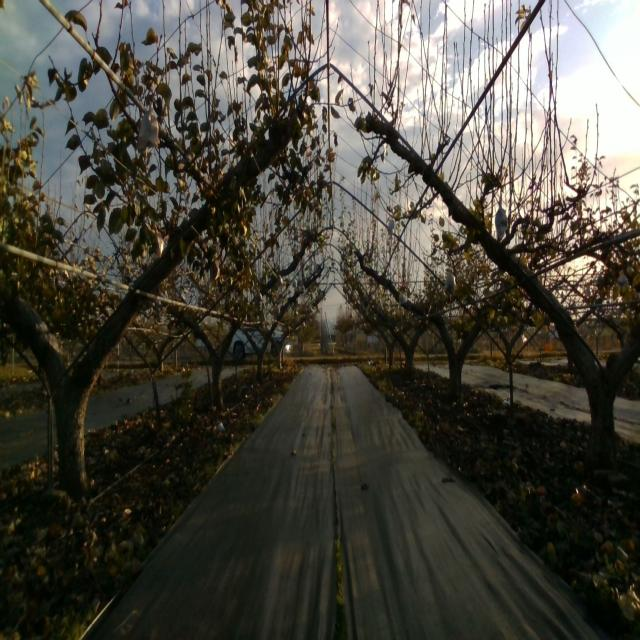pearbags: (137, 102, 160, 152), (494, 201, 508, 242), (151, 229, 165, 260), (444, 274, 457, 294)
